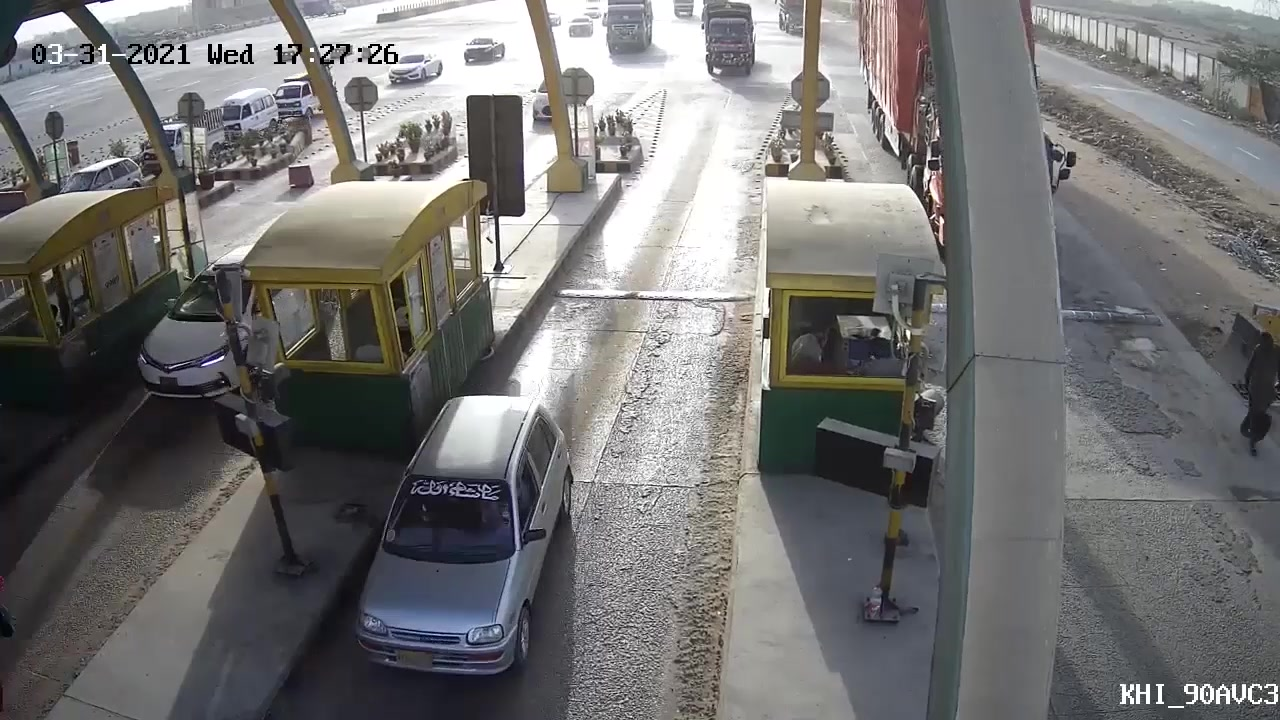F1: (359, 391, 585, 683)
